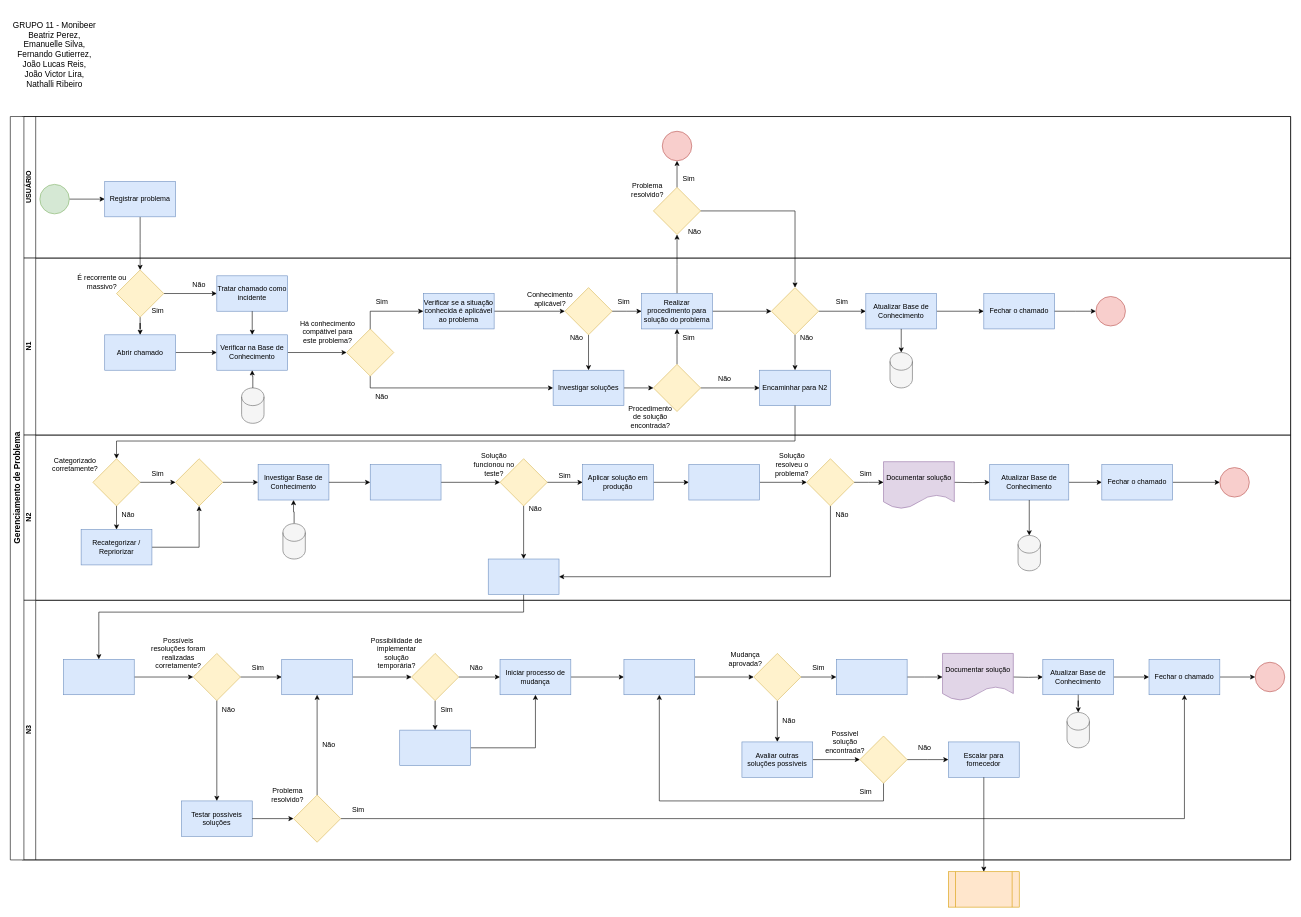
The diagram is 1301 pixels wide and 917 high, and some of its shapes have lost their labels. The shapes that lost their labels are listed below. From the top down, each one's centre as x and y in pixels, then its label:
At (405,482): "Testar possíveis soluções em ambiente controlado".
At (724,482): "Registrar ações executadas".
At (523,576): "Encaminhar para N3".
At (98,677): "Verificar o que foi realizado anteriormente".
At (317,677): "Identificar causa raíz".
At (659,677): "Solicitar aprovação de mudança".
At (871,677): "Implementar mudança para solução do problema".
At (435,748): "Contornar impacto com solução temporária".
At (983,889): "Contato com o fornecedor".
